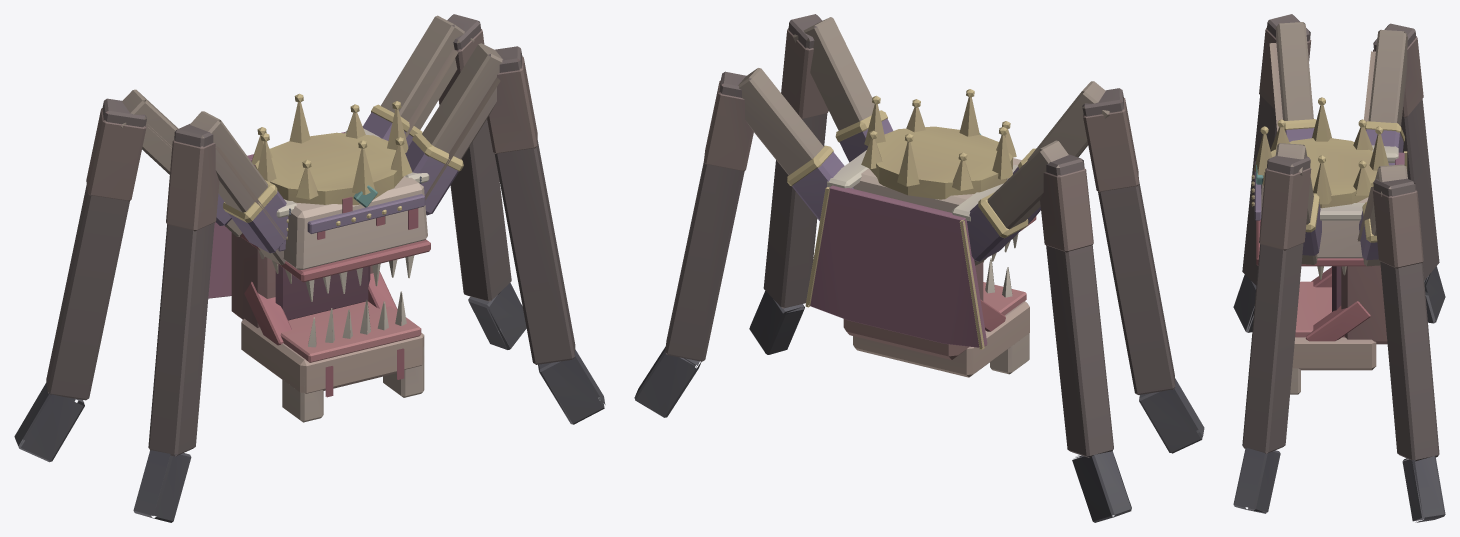
Rendered from PrimitiveSummonerKing.glb.
3 renders of one model, left to right at view 1: azimuth 30°, elevation 25°; view 2: azimuth 150°, elevation 25°; view 3: azimuth 270°, elevation 25°, orthographic. The views are drawn at different scales.
Visible parts, largest first — view 1: Body, ArmR, ArmL, LegR, LegL, Head; view 2: Body, LegR, LegL, ArmR, ArmL, Head; view 3: ArmL, LegL, Body, LegR, ArmR, Head.
Boxes of the visible parts, box(x1,y1,x2,y2) form: Body: box(208, 93, 430, 327); ArmR: box(133, 111, 288, 522); ArmL: box(405, 43, 605, 424); LegR: box(14, 89, 242, 462); LegL: box(362, 14, 526, 349); Head: box(241, 271, 424, 422); Body: box(805, 89, 1036, 359); LegR: box(967, 140, 1131, 522); LegL: box(634, 68, 853, 417); ArmR: box(1007, 81, 1204, 453); ArmL: box(749, 14, 893, 354); Head: box(853, 258, 1029, 377); ArmL: box(1233, 143, 1321, 513); LegL: box(1357, 164, 1445, 522); Body: box(1251, 97, 1407, 344); LegR: box(1364, 23, 1445, 323); ArmR: box(1233, 14, 1316, 332); Head: box(1290, 267, 1376, 394).
Size of the model in its own units: 10.01 by 6.99 by 3.98.
